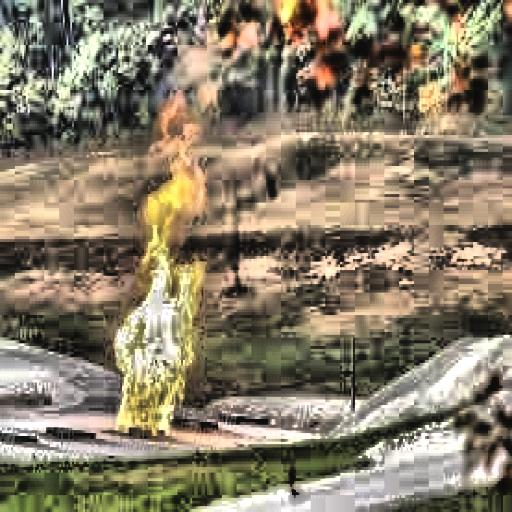fire: (109, 113, 211, 436)
